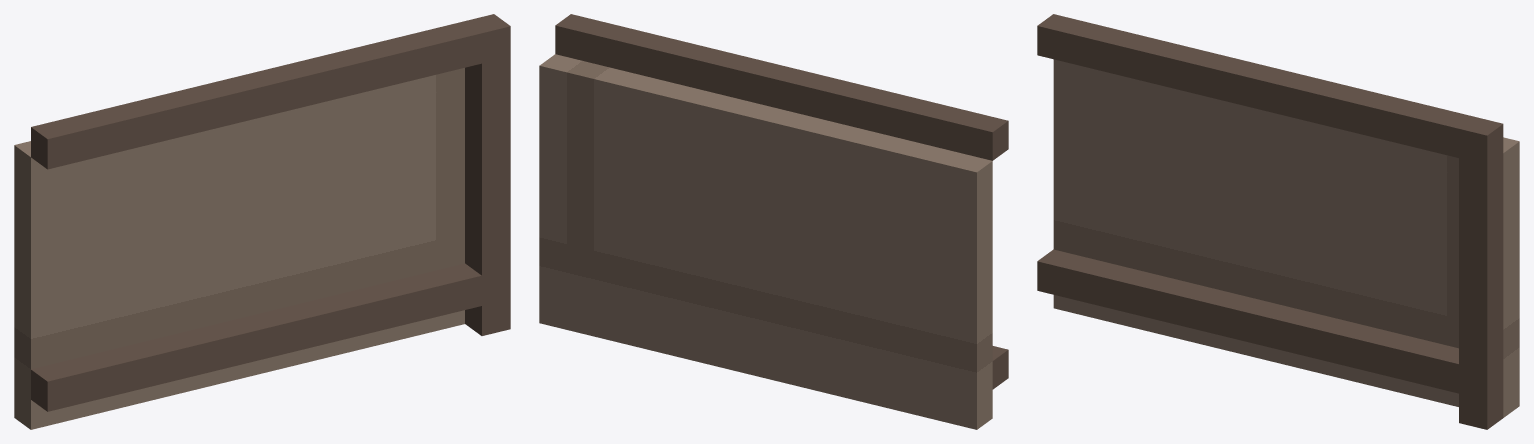
The model's file is wall_sign_right.fbx.
The picture shows the model from 3 angles, left to right: view 1: azimuth 30°, elevation 25°; view 2: azimuth 150°, elevation 25°; view 3: azimuth 330°, elevation 25°; orthographic projection. The views are drawn at different scales.
Visible parts, largest first — view 1: wall_sign_dx_0; view 2: wall_sign_dx_0; view 3: wall_sign_dx_0.
Part boxes in pixels (x1,y1,x2,y2): wall_sign_dx_0: [14, 14, 510, 429]; wall_sign_dx_0: [539, 14, 1008, 429]; wall_sign_dx_0: [1037, 14, 1519, 429].
Bounding box in the file's own units: 1600 × 200 × 1000.
